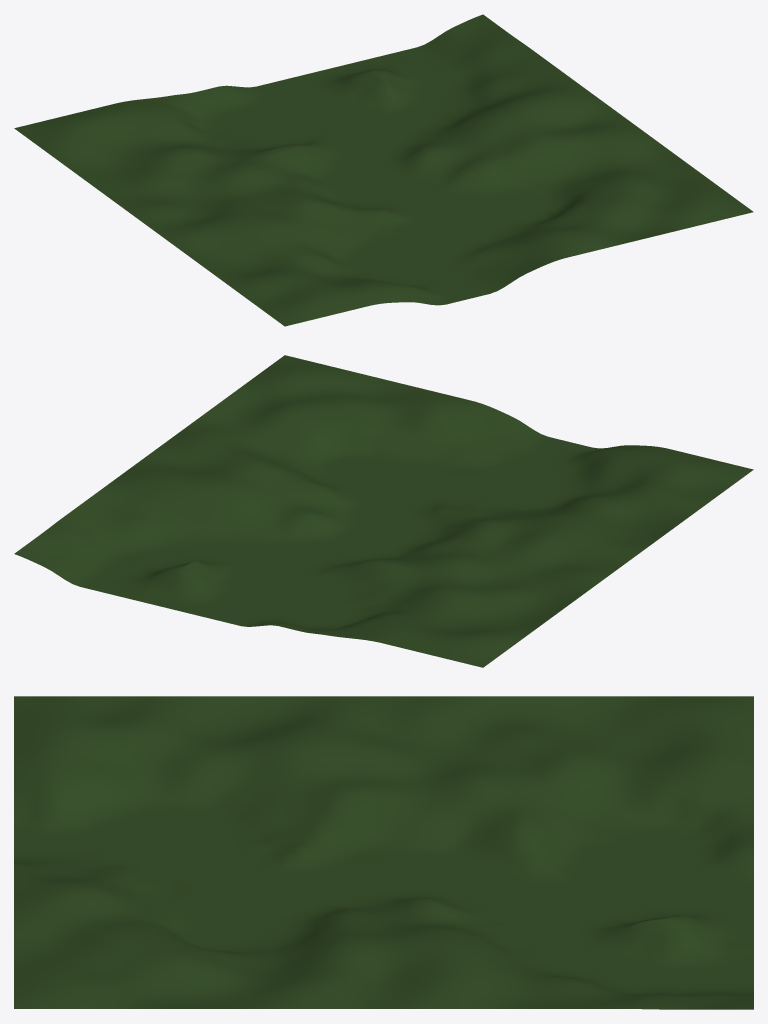
Rendered from ground.fbx.
3 renders of one model, top to bottom at view 1: azimuth 30°, elevation 25°; view 2: azimuth 150°, elevation 25°; view 3: azimuth 270°, elevation 25°, orthographic. The views are drawn at different scales.
Visible parts, largest first — view 1: Plane; view 2: Plane; view 3: Plane.
Boxes of the visible parts, x1,y1,x2,y2 form: Plane: (14,14,753,326); Plane: (14,355,753,667); Plane: (14,696,753,1009).
Bounding box in the file's own units: 5000 × 5000 × 246.
